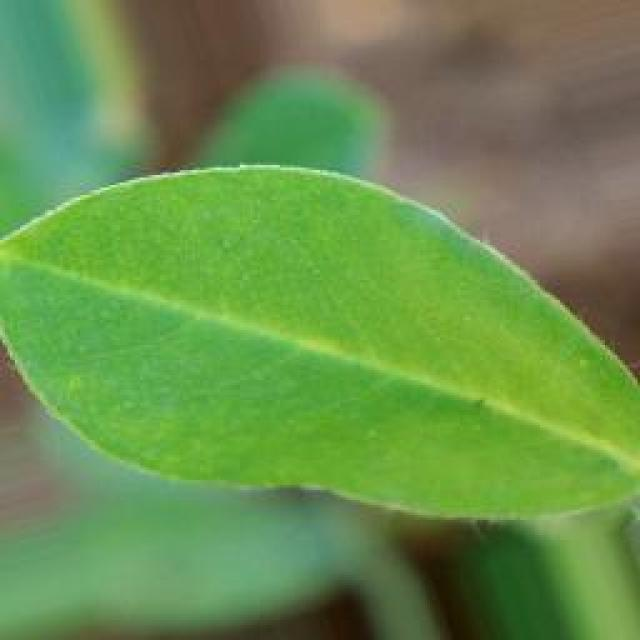Yellow_and_black_sigatoka: (0, 166, 640, 544)
